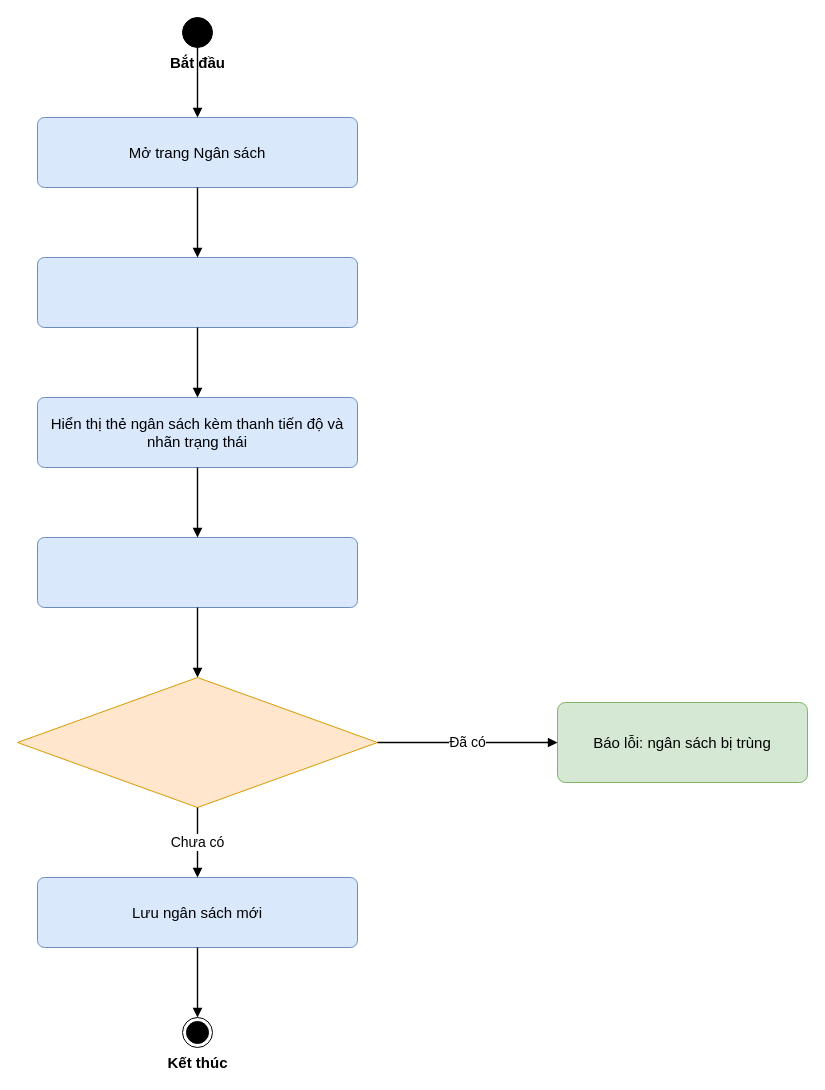
This 825x1090 diagram has some shape labels left out. The centre of each missing label's shape, as x and y in pixels:
"Bấm “Thêm ngân sách”, chọn danh mục và nhập hạn mức" belongs at point (197, 572).
"Danh mục đã có ngân sách trong tháng?" belongs at point (197, 742).
"Tính số tiền đã chi và phần trăm đã dùng của từng ngân sách" belongs at point (197, 292).
